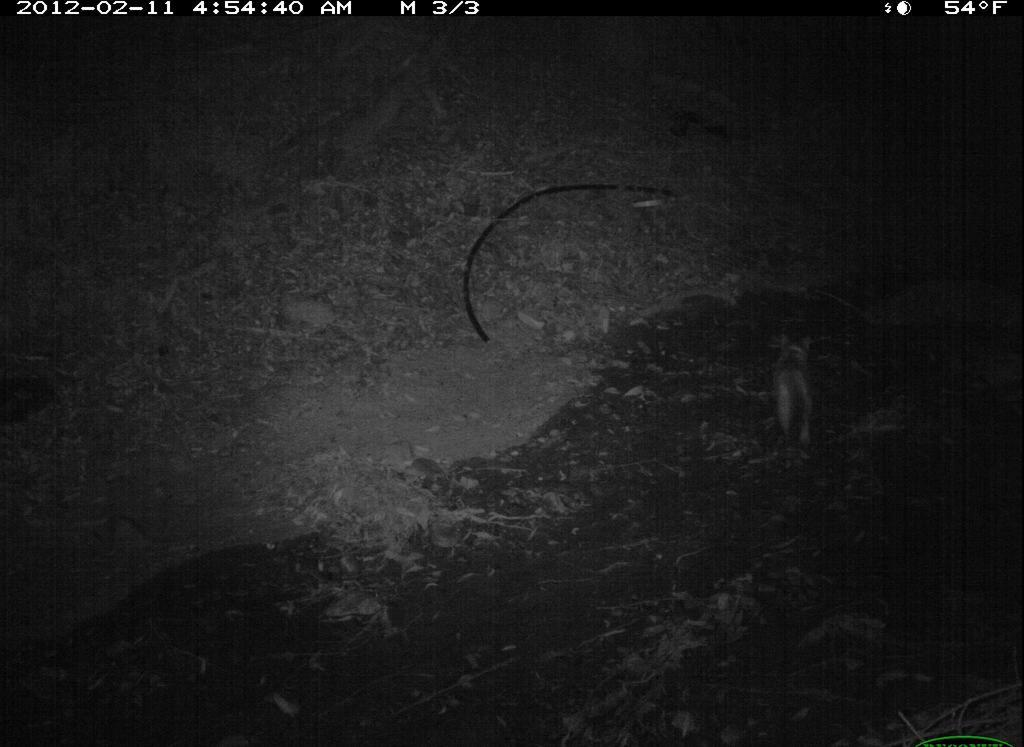cat: (758, 322, 821, 472)
